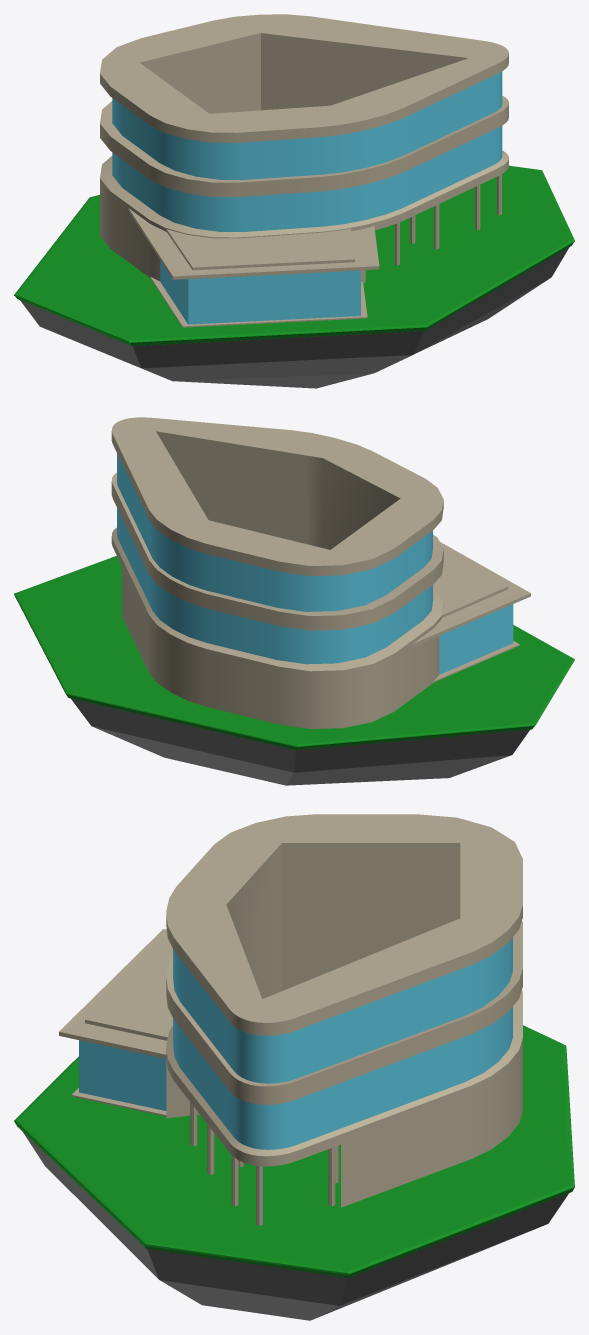
File: new_school.glb
3 views of the same model, one above another, from view 1: azimuth 30°, elevation 25°; view 2: azimuth 150°, elevation 25°; view 3: azimuth 270°, elevation 25° (orthographic). The views are drawn at different scales.
Visible parts, largest first — view 1: Cube, трава?, Cube.001, камень(большой); view 2: Cube, трава?, камень(большой), Cube.001; view 3: Cube, трава?, камень(большой), Cube.001.
Boxes of the visible parts, bbox=[...] form: Cube: bbox=[100, 14, 508, 282]; трава?: bbox=[14, 165, 574, 346]; Cube.001: bbox=[128, 208, 379, 327]; камень(большой): bbox=[20, 247, 569, 388]; Cube: bbox=[111, 417, 443, 728]; трава?: bbox=[14, 556, 574, 750]; камень(большой): bbox=[71, 698, 529, 785]; Cube.001: bbox=[412, 542, 530, 682]; Cube: bbox=[166, 814, 522, 1207]; трава?: bbox=[14, 1025, 574, 1277]; камень(большой): bbox=[23, 1132, 568, 1320]; Cube.001: bbox=[59, 929, 172, 1116].
Bounding box in the file's own units: 15.21 × 8.17 × 11.08.
